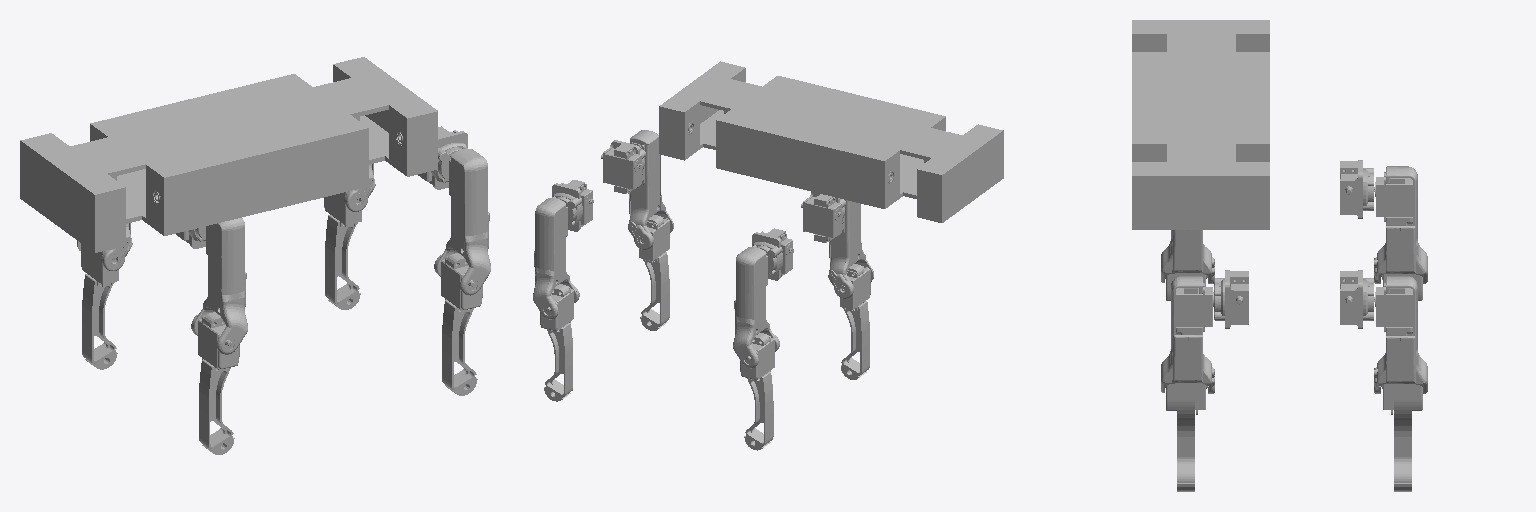
robot.urdf — spot_cv_urdf:
<?xml version="1.0" encoding="utf-8"?>
<!-- This URDF was automatically created by SolidWorks to URDF Exporter! Originally created by [author] ([email redacted]) 
     Commit Version: 1.6.0-1-g15f4949  Build Version: 1.6.7594.29634
     For more information, please see http://wiki.ros.org/sw_urdf_exporter -->
<robot
  name="spot_cv_urdf">
  <link
    name="base_link">
    <inertial>
      <origin
        xyz="9.0472E-05 1.6883E-10 0.032689"
        rpy="0 0 0" />
      <mass
        value="0.91054" />
      <inertia
        ixx="0.0028662"
        ixy="-1.216E-13"
        ixz="-5.6686E-07"
        iyy="0.014692"
        iyz="6.1307E-12"
        izz="0.016414" />
    </inertial>
    <visual>
      <origin
        xyz="0 0 0"
        rpy="0 0 0" />
      <geometry>
        <mesh
          filename="../meshes/base_link.STL" />
      </geometry>
      <material
        name="">
        <color
          rgba="0.75294 0.75294 0.75294 1" />
      </material>
    </visual>
    <collision>
      <origin
        xyz="0 0 0"
        rpy="0 0 0" />
      <geometry>
        <mesh
          filename="../meshes/base_link.STL" />
      </geometry>
    </collision>
  </link>
  <link
    name="front_left_shoulder_link">
    <inertial>
      <origin
        xyz="0.016915 -0.0065134 -0.0093599"
        rpy="0 0 0" />
      <mass
        value="0.063725" />
      <inertia
        ixx="1.5451E-05"
        ixy="-4.8305E-07"
        ixz="1.3614E-07"
        iyy="2.0703E-05"
        iyz="-2.0875E-08"
        izz="1.2409E-05" />
    </inertial>
    <visual>
      <origin
        xyz="0 0 0"
        rpy="0 0 0" />
      <geometry>
        <mesh
          filename="../meshes/front_left_shoulder_link.STL" />
      </geometry>
      <material
        name="">
        <color
          rgba="0.75294 0.75294 0.75294 1" />
      </material>
    </visual>
    <collision>
      <origin
        xyz="0 0 0"
        rpy="0 0 0" />
      <geometry>
        <mesh
          filename="../meshes/front_left_shoulder_link.STL" />
      </geometry>
    </collision>
  </link>
  <joint
    name="front_left_shoulder"
    type="revolute">
    <origin
      xyz="-0.1575 -0.0595 0.0378"
      rpy="0 0 0" />
    <parent
      link="base_link" />
    <child
      link="front_left_shoulder_link" />
    <axis
      xyz="1 0 0" />
    <limit
      lower="0"
      upper="0"
      effort="0"
      velocity="0" />
  </joint>
  <link
    name="front_left_leg_link">
    <inertial>
      <origin
        xyz="-0.0020782 -0.019975 -0.038859"
        rpy="0 0 0" />
      <mass
        value="0.11763" />
      <inertia
        ixx="0.00011332"
        ixy="-7.3343E-07"
        ixz="1.4978E-06"
        iyy="0.00010665"
        iyz="-1.1974E-07"
        izz="1.9982E-05" />
    </inertial>
    <visual>
      <origin
        xyz="0 0 0"
        rpy="0 0 0" />
      <geometry>
        <mesh
          filename="../meshes/front_left_leg_link.STL" />
      </geometry>
      <material
        name="">
        <color
          rgba="0.75294 0.75294 0.75294 1" />
      </material>
    </visual>
    <collision>
      <origin
        xyz="0 0 0"
        rpy="0 0 0" />
      <geometry>
        <mesh
          filename="../meshes/front_left_leg_link.STL" />
      </geometry>
    </collision>
  </link>
  <joint
    name="front_left_leg"
    type="revolute">
    <origin
      xyz="0.017749 -0.03425 -0.0095448"
      rpy="0 0 0" />
    <parent
      link="front_left_shoulder_link" />
    <child
      link="front_left_leg_link" />
    <axis
      xyz="0 -1 0" />
    <limit
      lower="0"
      upper="0"
      effort="0"
      velocity="0" />
  </joint>
  <link
    name="front_left_foot_link">
    <inertial>
      <origin
        xyz="0.00063633 -0.016724 -0.029922"
        rpy="0 0 0" />
      <mass
        value="0.063184" />
      <inertia
        ixx="7.9507E-05"
        ixy="3.2805E-07"
        ixz="-4.3644E-06"
        iyy="7.6394E-05"
        iyz="3.2306E-06"
        izz="1.0251E-05" />
    </inertial>
    <visual>
      <origin
        xyz="0 0 0"
        rpy="0 0 0" />
      <geometry>
        <mesh
          filename="../meshes/front_left_foot_link.STL" />
      </geometry>
      <material
        name="">
        <color
          rgba="0.75294 0.75294 0.75294 1" />
      </material>
    </visual>
    <collision>
      <origin
        xyz="0 0 0"
        rpy="0 0 0" />
      <geometry>
        <mesh
          filename="../meshes/front_left_foot_link.STL" />
      </geometry>
    </collision>
  </link>
  <joint
    name="front_left_foot"
    type="revolute">
    <origin
      xyz="-0.013898 -0.0077 -0.10581"
      rpy="0 0 0" />
    <parent
      link="front_left_leg_link" />
    <child
      link="front_left_foot_link" />
    <axis
      xyz="0 -1 0" />
    <limit
      lower="0"
      upper="0"
      effort="0"
      velocity="0" />
  </joint>
  <link
    name="front_right_shoulder_link">
    <inertial>
      <origin
        xyz="0.016915 0.0065134 -0.0091209"
        rpy="0 0 0" />
      <mass
        value="0.063725" />
      <inertia
        ixx="1.5451E-05"
        ixy="4.8305E-07"
        ixz="1.3615E-07"
        iyy="2.0703E-05"
        iyz="2.0873E-08"
        izz="1.2409E-05" />
    </inertial>
    <visual>
      <origin
        xyz="0 0 0"
        rpy="0 0 0" />
      <geometry>
        <mesh
          filename="../meshes/front_right_shoulder_link.STL" />
      </geometry>
      <material
        name="">
        <color
          rgba="0.75294 0.75294 0.75294 1" />
      </material>
    </visual>
    <collision>
      <origin
        xyz="0 0 0"
        rpy="0 0 0" />
      <geometry>
        <mesh
          filename="../meshes/front_right_shoulder_link.STL" />
      </geometry>
    </collision>
  </link>
  <joint
    name="front_right_shoulder"
    type="revolute">
    <origin
      xyz="-0.1575 0.0595 0.0373"
      rpy="0 0 0" />
    <parent
      link="base_link" />
    <child
      link="front_right_shoulder_link" />
    <axis
      xyz="1 0 0" />
    <limit
      lower="0"
      upper="0"
      effort="0"
      velocity="0" />
  </joint>
  <link
    name="front_right_leg_link">
    <inertial>
      <origin
        xyz="-0.0020772 0.019991 -0.038988"
        rpy="0 0 0" />
      <mass
        value="0.11774" />
      <inertia
        ixx="0.00011427"
        ixy="7.3362E-07"
        ixz="1.5063E-06"
        iyy="0.0001076"
        iyz="1.5706E-07"
        izz="1.9988E-05" />
    </inertial>
    <visual>
      <origin
        xyz="0 0 0"
        rpy="0 0 0" />
      <geometry>
        <mesh
          filename="../meshes/front_right_leg_link.STL" />
      </geometry>
      <material
        name="">
        <color
          rgba="0.75294 0.75294 0.75294 1" />
      </material>
    </visual>
    <collision>
      <origin
        xyz="0 0 0"
        rpy="0 0 0" />
      <geometry>
        <mesh
          filename="../meshes/front_right_leg_link.STL" />
      </geometry>
    </collision>
  </link>
  <joint
    name="front_right_leg"
    type="revolute">
    <origin
      xyz="0.017749 0.03425 -0.0090448"
      rpy="0 0 0" />
    <parent
      link="front_right_shoulder_link" />
    <child
      link="front_right_leg_link" />
    <axis
      xyz="0 1 0" />
    <limit
      lower="0"
      upper="0"
      effort="0"
      velocity="0" />
  </joint>
  <link
    name="front_right_foot_link">
    <inertial>
      <origin
        xyz="0.00063633 0.016724 -0.029922"
        rpy="0 0 0" />
      <mass
        value="0.063184" />
      <inertia
        ixx="7.9507E-05"
        ixy="-3.2805E-07"
        ixz="-4.3644E-06"
        iyy="7.6394E-05"
        iyz="-3.2306E-06"
        izz="1.0251E-05" />
    </inertial>
    <visual>
      <origin
        xyz="0 0 0"
        rpy="0 0 0" />
      <geometry>
        <mesh
          filename="../meshes/front_right_foot_link.STL" />
      </geometry>
      <material
        name="">
        <color
          rgba="0.75294 0.75294 0.75294 1" />
      </material>
    </visual>
    <collision>
      <origin
        xyz="0 0 0"
        rpy="0 0 0" />
      <geometry>
        <mesh
          filename="../meshes/front_right_foot_link.STL" />
      </geometry>
    </collision>
  </link>
  <joint
    name="front_right_foot"
    type="revolute">
    <origin
      xyz="-0.013898 0.0077 -0.10581"
      rpy="0 0 0" />
    <parent
      link="front_right_leg_link" />
    <child
      link="front_right_foot_link" />
    <axis
      xyz="0 1 0" />
    <limit
      lower="0"
      upper="0"
      effort="0"
      velocity="0" />
  </joint>
  <link
    name="rear_left_shoulder_link">
    <inertial>
      <origin
        xyz="0.016915 -0.0065134 -0.0091209"
        rpy="0 0 0" />
      <mass
        value="0.063725" />
      <inertia
        ixx="1.5451E-05"
        ixy="-4.8305E-07"
        ixz="1.3614E-07"
        iyy="2.0703E-05"
        iyz="-2.0875E-08"
        izz="1.2409E-05" />
    </inertial>
    <visual>
      <origin
        xyz="0 0 0"
        rpy="0 0 0" />
      <geometry>
        <mesh
          filename="../meshes/rear_left_shoulder_link.STL" />
      </geometry>
      <material
        name="">
        <color
          rgba="0.75294 0.75294 0.75294 1" />
      </material>
    </visual>
    <collision>
      <origin
        xyz="0 0 0"
        rpy="0 0 0" />
      <geometry>
        <mesh
          filename="../meshes/rear_left_shoulder_link.STL" />
      </geometry>
    </collision>
  </link>
  <joint
    name="rear_left_shoulder"
    type="revolute">
    <origin
      xyz="0.1255 -0.0595 0.0373"
      rpy="0 0 0" />
    <parent
      link="base_link" />
    <child
      link="rear_left_shoulder_link" />
    <axis
      xyz="1 0 0" />
    <limit
      lower="0"
      upper="0"
      effort="0"
      velocity="0" />
  </joint>
  <link
    name="rear_left_leg_link">
    <inertial>
      <origin
        xyz="-0.0020782 -0.019975 -0.038859"
        rpy="0 0 0" />
      <mass
        value="0.11763" />
      <inertia
        ixx="0.00011332"
        ixy="-7.3343E-07"
        ixz="1.4978E-06"
        iyy="0.00010665"
        iyz="-1.1974E-07"
        izz="1.9982E-05" />
    </inertial>
    <visual>
      <origin
        xyz="0 0 0"
        rpy="0 0 0" />
      <geometry>
        <mesh
          filename="../meshes/rear_left_leg_link.STL" />
      </geometry>
      <material
        name="">
        <color
          rgba="0.75294 0.75294 0.75294 1" />
      </material>
    </visual>
    <collision>
      <origin
        xyz="0 0 0"
        rpy="0 0 0" />
      <geometry>
        <mesh
          filename="../meshes/rear_left_leg_link.STL" />
      </geometry>
    </collision>
  </link>
  <joint
    name="rear_left_leg"
    type="revolute">
    <origin
      xyz="0.017749 -0.03425 -0.0090448"
      rpy="0 0 0" />
    <parent
      link="rear_left_shoulder_link" />
    <child
      link="rear_left_leg_link" />
    <axis
      xyz="0 -1 0" />
    <limit
      lower="0"
      upper="0"
      effort="0"
      velocity="0" />
  </joint>
  <link
    name="rear_left_foot_link">
    <inertial>
      <origin
        xyz="0.00063633 -0.016724 -0.029922"
        rpy="0 0 0" />
      <mass
        value="0.063184" />
      <inertia
        ixx="7.9507E-05"
        ixy="3.2805E-07"
        ixz="-4.3644E-06"
        iyy="7.6394E-05"
        iyz="3.2306E-06"
        izz="1.0251E-05" />
    </inertial>
    <visual>
      <origin
        xyz="0 0 0"
        rpy="0 0 0" />
      <geometry>
        <mesh
          filename="../meshes/rear_left_foot_link.STL" />
      </geometry>
      <material
        name="">
        <color
          rgba="0.75294 0.75294 0.75294 1" />
      </material>
    </visual>
    <collision>
      <origin
        xyz="0 0 0"
        rpy="0 0 0" />
      <geometry>
        <mesh
          filename="../meshes/rear_left_foot_link.STL" />
      </geometry>
    </collision>
  </link>
  <joint
    name="rear_left_foot"
    type="revolute">
    <origin
      xyz="-0.013898 -0.0077 -0.10581"
      rpy="0 0 0" />
    <parent
      link="rear_left_leg_link" />
    <child
      link="rear_left_foot_link" />
    <axis
      xyz="0 -1 0" />
    <limit
      lower="0"
      upper="0"
      effort="0"
      velocity="0" />
  </joint>
  <link
    name="rear_right_shoulder_link">
    <inertial>
      <origin
        xyz="0.016915 0.0065134 -0.0093599"
        rpy="0 0 0" />
      <mass
        value="0.063725" />
      <inertia
        ixx="1.5451E-05"
        ixy="4.8305E-07"
        ixz="1.3615E-07"
        iyy="2.0703E-05"
        iyz="2.0873E-08"
        izz="1.2409E-05" />
    </inertial>
    <visual>
      <origin
        xyz="0 0 0"
        rpy="0 0 0" />
      <geometry>
        <mesh
          filename="../meshes/rear_right_shoulder_link.STL" />
      </geometry>
      <material
        name="">
        <color
          rgba="0.75294 0.75294 0.75294 1" />
      </material>
    </visual>
    <collision>
      <origin
        xyz="0 0 0"
        rpy="0 0 0" />
      <geometry>
        <mesh
          filename="../meshes/rear_right_shoulder_link.STL" />
      </geometry>
    </collision>
  </link>
  <joint
    name="rear_right_shoulder"
    type="revolute">
    <origin
      xyz="0.1255 0.0595 0.0378"
      rpy="0 0 0" />
    <parent
      link="base_link" />
    <child
      link="rear_right_shoulder_link" />
    <axis
      xyz="1 0 0" />
    <limit
      lower="0"
      upper="0"
      effort="0"
      velocity="0" />
  </joint>
  <link
    name="rear_right_leg_link">
    <inertial>
      <origin
        xyz="-0.0020772 0.019991 -0.038988"
        rpy="0 0 0" />
      <mass
        value="0.11774" />
      <inertia
        ixx="0.00011427"
        ixy="7.3362E-07"
        ixz="1.5063E-06"
        iyy="0.0001076"
        iyz="1.5706E-07"
        izz="1.9988E-05" />
    </inertial>
    <visual>
      <origin
        xyz="0 0 0"
        rpy="0 0 0" />
      <geometry>
        <mesh
          filename="../meshes/rear_right_leg_link.STL" />
      </geometry>
      <material
        name="">
        <color
          rgba="0.75294 0.75294 0.75294 1" />
      </material>
    </visual>
    <collision>
      <origin
        xyz="0 0 0"
        rpy="0 0 0" />
      <geometry>
        <mesh
          filename="../meshes/rear_right_leg_link.STL" />
      </geometry>
    </collision>
  </link>
  <joint
    name="rear_right_leg"
    type="revolute">
    <origin
      xyz="0.017749 0.03425 -0.0095448"
      rpy="0 0 0" />
    <parent
      link="rear_right_shoulder_link" />
    <child
      link="rear_right_leg_link" />
    <axis
      xyz="0 1 0" />
    <limit
      lower="0"
      upper="0"
      effort="0"
      velocity="0" />
  </joint>
  <link
    name="rear_right_foot_link">
    <inertial>
      <origin
        xyz="0.00063633 0.016724 -0.029922"
        rpy="0 0 0" />
      <mass
        value="0.063184" />
      <inertia
        ixx="7.9507E-05"
        ixy="-3.2805E-07"
        ixz="-4.3644E-06"
        iyy="7.6394E-05"
        iyz="-3.2306E-06"
        izz="1.0251E-05" />
    </inertial>
    <visual>
      <origin
        xyz="0 0 0"
        rpy="0 0 0" />
      <geometry>
        <mesh
          filename="../meshes/rear_right_foot_link.STL" />
      </geometry>
      <material
        name="">
        <color
          rgba="0.75294 0.75294 0.75294 1" />
      </material>
    </visual>
    <collision>
      <origin
        xyz="0 0 0"
        rpy="0 0 0" />
      <geometry>
        <mesh
          filename="../meshes/rear_right_foot_link.STL" />
      </geometry>
    </collision>
  </link>
  <joint
    name="rear_right_foot"
    type="revolute">
    <origin
      xyz="-0.013898 0.0077 -0.10581"
      rpy="0 0 0" />
    <parent
      link="rear_right_leg_link" />
    <child
      link="rear_right_foot_link" />
    <axis
      xyz="0 1 0" />
    <limit
      lower="0"
      upper="0"
      effort="0"
      velocity="0" />
  </joint>
</robot>

--- Facts derived from the render (not from the file) ---
Views: 3 orthographic renders of the robot side by side, from view 1: azimuth 30°, elevation 25°; view 2: azimuth 150°, elevation 25°; view 3: azimuth 270°, elevation 25°.
Model spot_cv_urdf with 13 links and 12 joints (12 revolute), rooted at base_link, posed all joints at 0.
Links seen in each view (by area): view 1: base_link, rear_left_leg_link, front_left_leg_link, rear_left_foot_link, front_left_foot_link, front_right_foot_link, rear_right_foot_link, rear_left_shoulder_link, front_right_leg_link, rear_right_leg_link; view 2: base_link, rear_right_leg_link, front_right_leg_link, rear_left_leg_link, front_right_foot_link, rear_right_foot_link, front_left_foot_link, rear_left_foot_link, front_left_leg_link, rear_left_shoulder_link, front_left_shoulder_link, front_right_shoulder_link (+1 smaller); view 3: base_link, rear_right_leg_link, front_right_leg_link, rear_left_leg_link, rear_left_foot_link, rear_right_foot_link, front_left_leg_link, rear_left_shoulder_link, front_right_shoulder_link, rear_right_shoulder_link.
Boxes of the visible links, x1,y1,x2,y2 form: base_link: (20, 57, 437, 252); rear_left_leg_link: (434, 149, 490, 295); front_left_leg_link: (191, 218, 247, 354); rear_left_foot_link: (441, 253, 482, 395); front_left_foot_link: (198, 312, 239, 454); front_right_foot_link: (81, 244, 118, 369); rear_right_foot_link: (324, 192, 361, 309); rear_left_shoulder_link: (418, 126, 467, 189); front_right_leg_link: (77, 223, 132, 270); rear_right_leg_link: (344, 164, 375, 211); base_link: (659, 61, 1003, 222); rear_right_leg_link: (533, 198, 579, 319); front_right_leg_link: (733, 247, 779, 368); rear_left_leg_link: (628, 130, 673, 249); front_right_foot_link: (740, 333, 774, 450); rear_right_foot_link: (540, 284, 573, 401); front_left_foot_link: (840, 264, 870, 379); rear_left_foot_link: (639, 215, 669, 330); front_left_leg_link: (828, 200, 873, 298); rear_left_shoulder_link: (601, 140, 645, 193); front_left_shoulder_link: (801, 192, 845, 242); front_right_shoulder_link: (752, 228, 793, 280); base_link: (1132, 20, 1269, 229); rear_right_leg_link: (1374, 276, 1427, 393); front_right_leg_link: (1374, 166, 1427, 283); rear_left_leg_link: (1161, 276, 1214, 393); rear_left_foot_link: (1166, 383, 1206, 491); rear_right_foot_link: (1382, 384, 1422, 491); front_left_leg_link: (1161, 230, 1214, 283); rear_left_shoulder_link: (1214, 270, 1248, 328); front_right_shoulder_link: (1340, 160, 1373, 218); rear_right_shoulder_link: (1340, 270, 1373, 328).
Bounding box of the posed robot: 0.5004 × 0.3216 × 0.3499 m (x, y, z).
13 mesh visuals loaded from 13 distinct referenced files (13 binary STL).